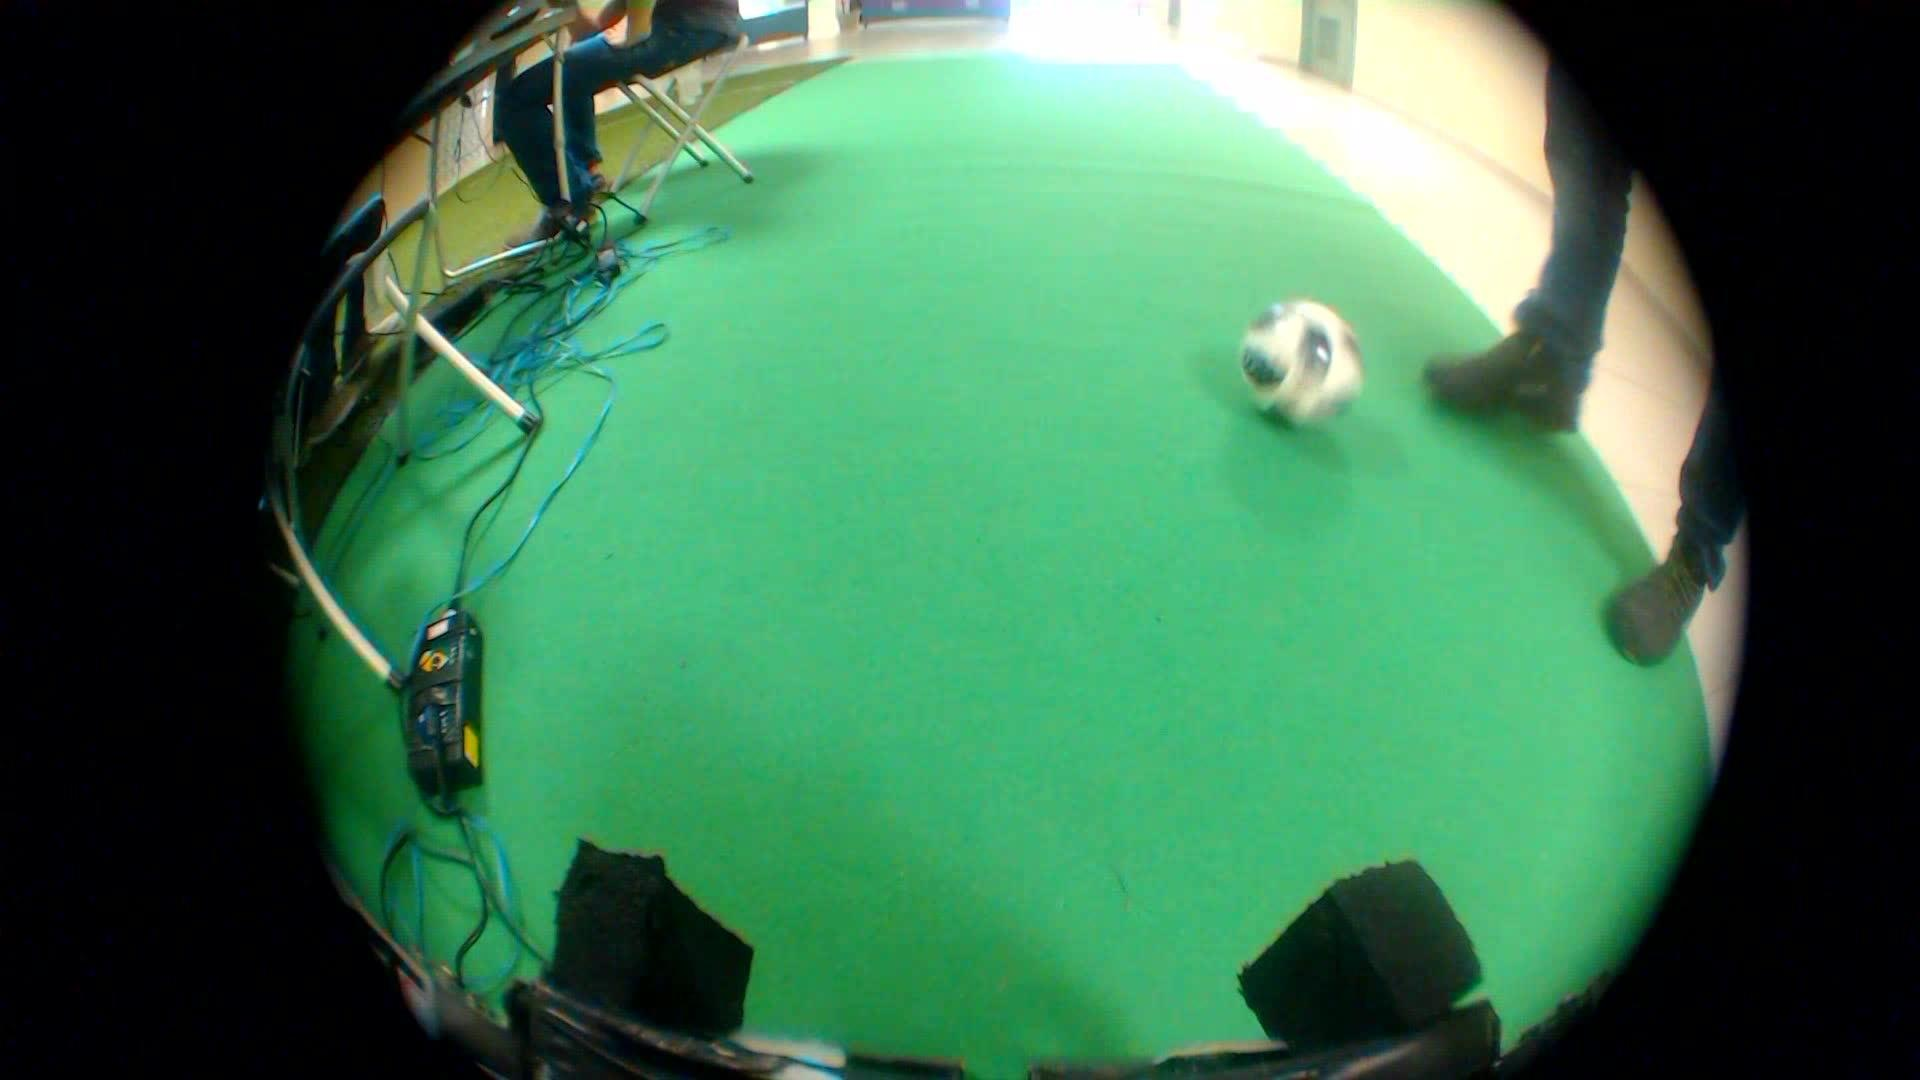ball: (1218, 280, 1379, 438)
